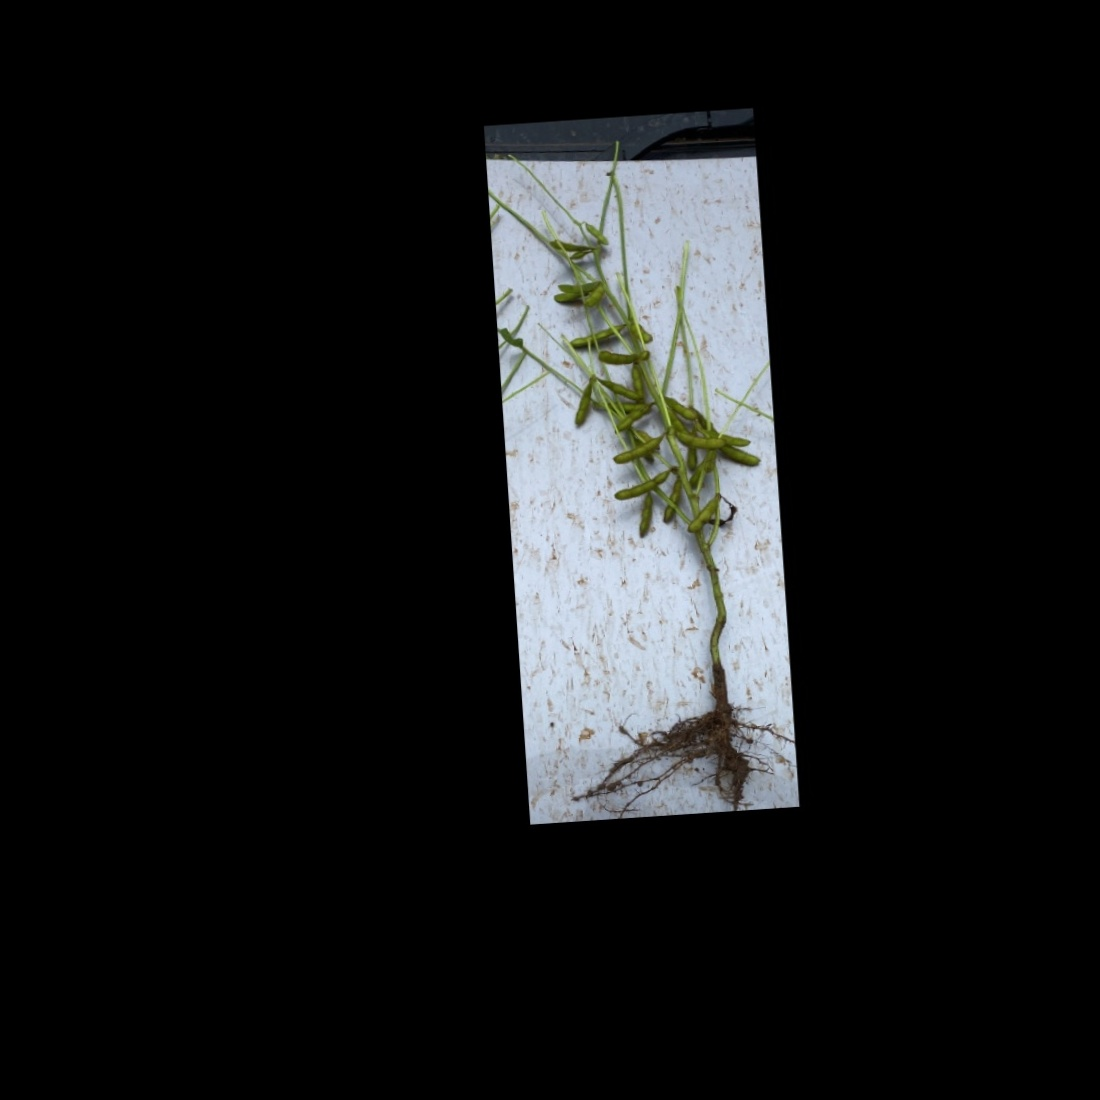pod: (612, 469, 669, 502), (684, 497, 723, 536), (568, 320, 624, 347), (612, 438, 662, 467), (593, 374, 637, 403), (670, 429, 723, 451), (633, 494, 656, 542), (660, 482, 683, 526), (593, 345, 637, 368), (570, 386, 594, 426), (662, 395, 696, 421), (722, 443, 760, 466), (584, 219, 610, 247), (664, 406, 687, 436), (631, 364, 646, 400), (684, 446, 701, 471)
soy: (518, 164, 784, 804)
